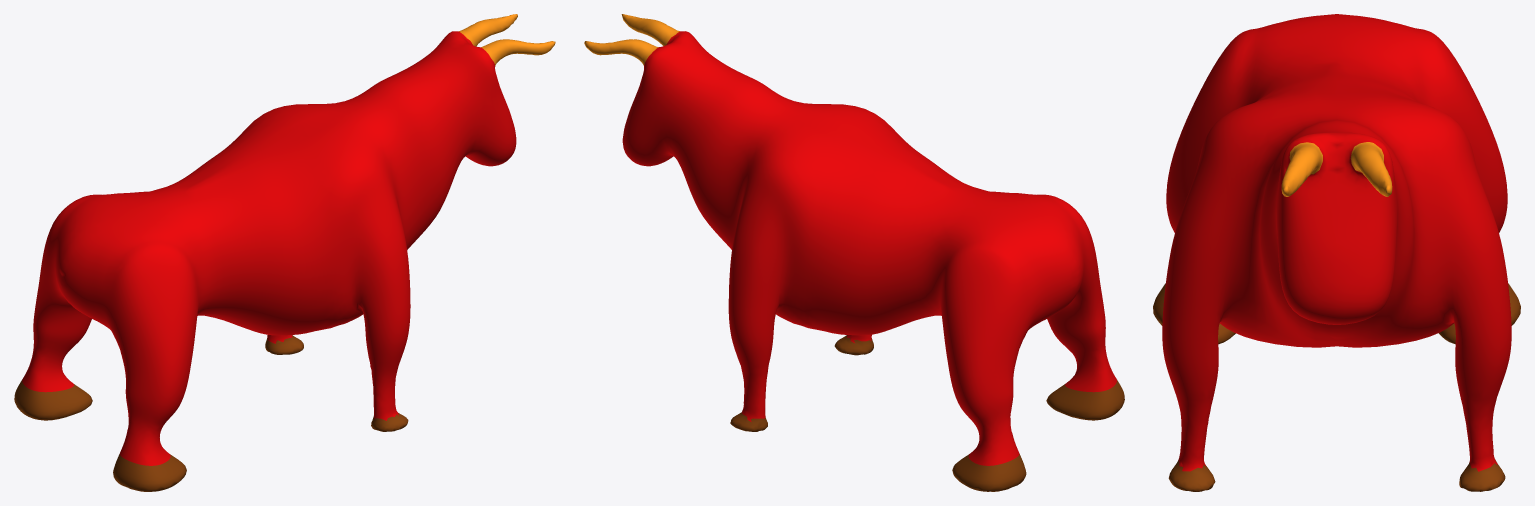
File: Bull.0.1.fbx
The picture shows the model from 3 angles, left to right: view 1: azimuth 30°, elevation 25°; view 2: azimuth 150°, elevation 25°; view 3: azimuth 270°, elevation 25°; orthographic projection. The views are drawn at different scales.
Parts seen in each view (by area): view 1: Cube; view 2: Cube; view 3: Cube.
Boxes of the visible parts, left/top/right/bottom form: Cube: left=14, top=14, right=555, bottom=491; Cube: left=584, top=14, right=1124, bottom=491; Cube: left=1153, top=14, right=1520, bottom=491.
Size of the model in its own units: 917 by 587 by 448.
